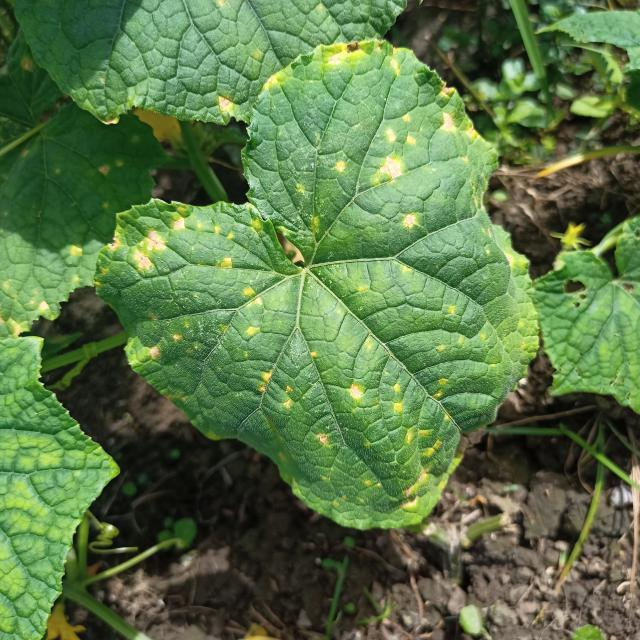disease_cucumber: (111, 41, 526, 522)
